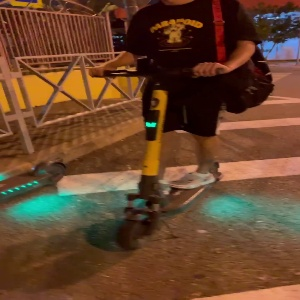human on a scooter: (86, 1, 277, 251)
